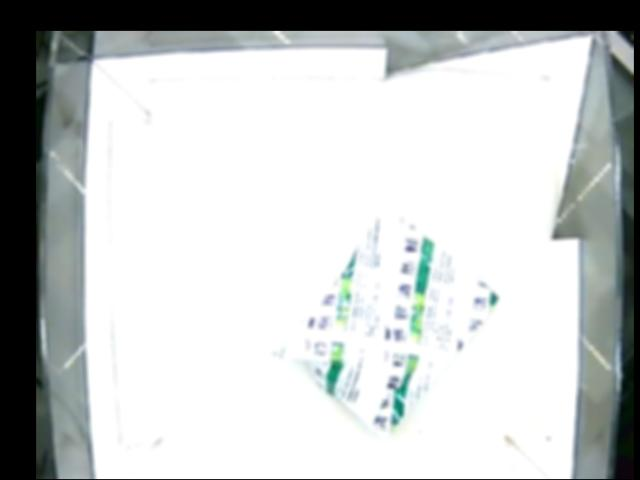Medicine: (267, 204, 499, 437)
